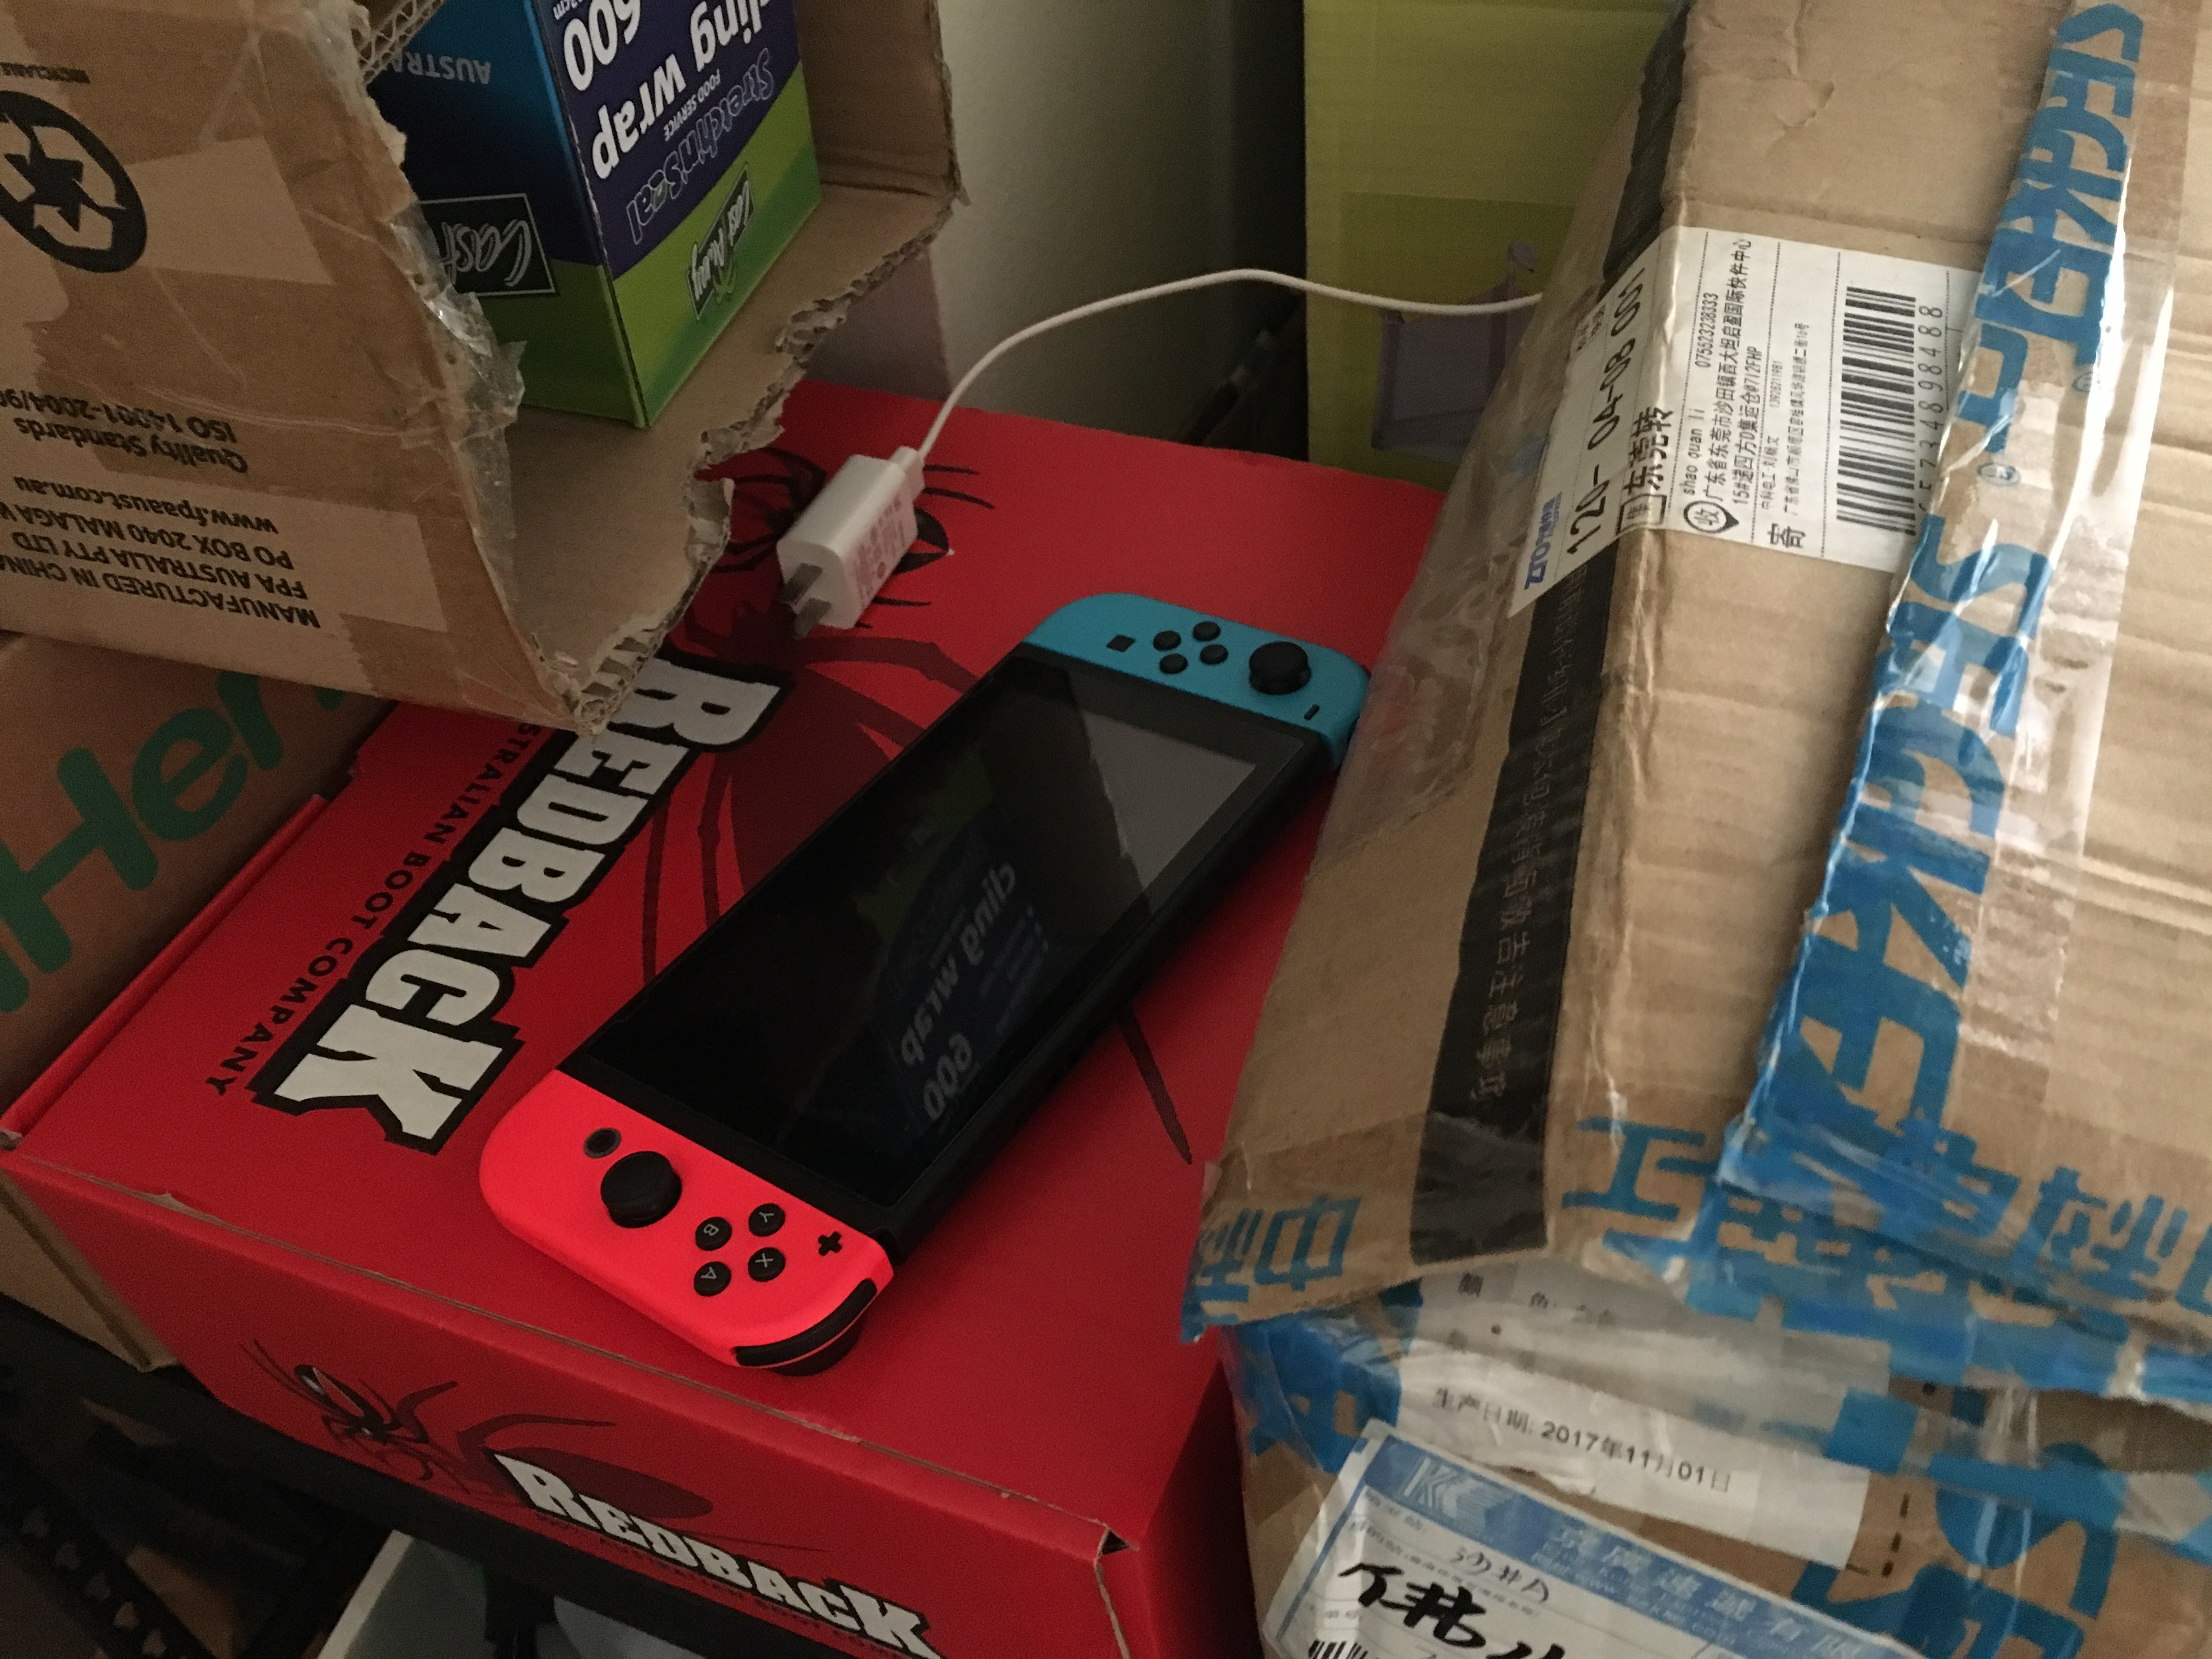NintendoSwitch: (458, 589, 1400, 1385)
